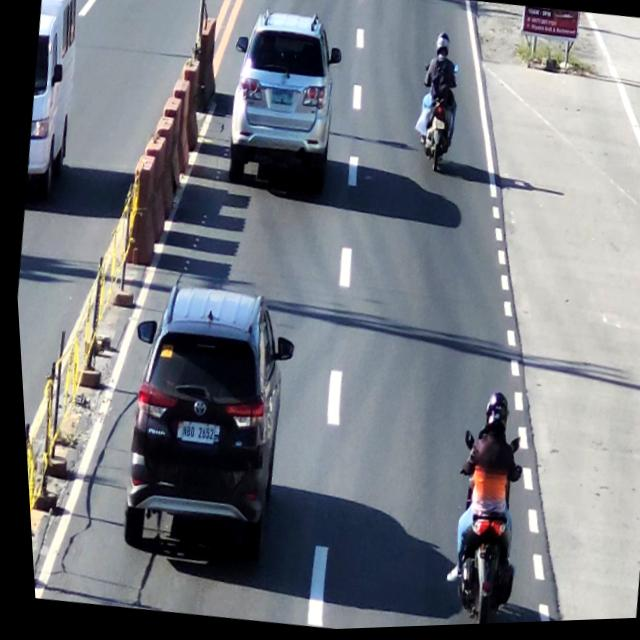Car: (104, 279, 296, 566), (214, 7, 352, 199)
License-Plate: (169, 418, 215, 456), (267, 83, 296, 111)
Motorcycle: (419, 378, 540, 628), (406, 30, 474, 190)
